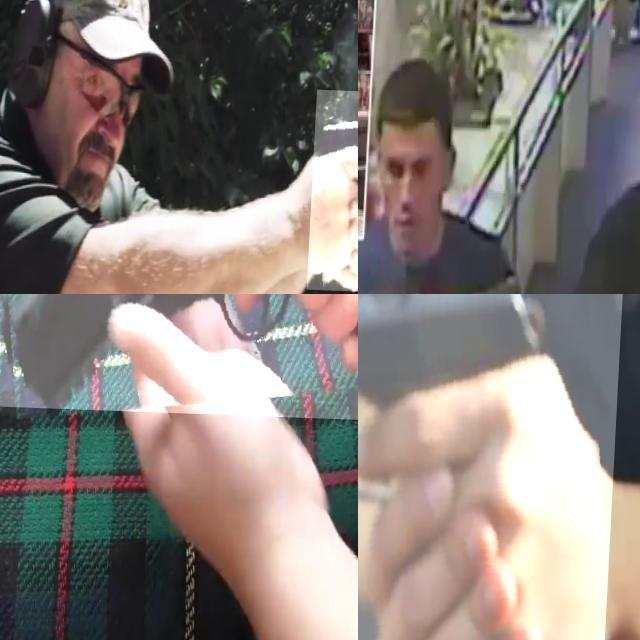gun-knife-thesis - v11 Yolov5 augmented: (358, 294, 626, 640), (0, 294, 358, 485), (311, 87, 358, 291), (358, 85, 435, 198)
